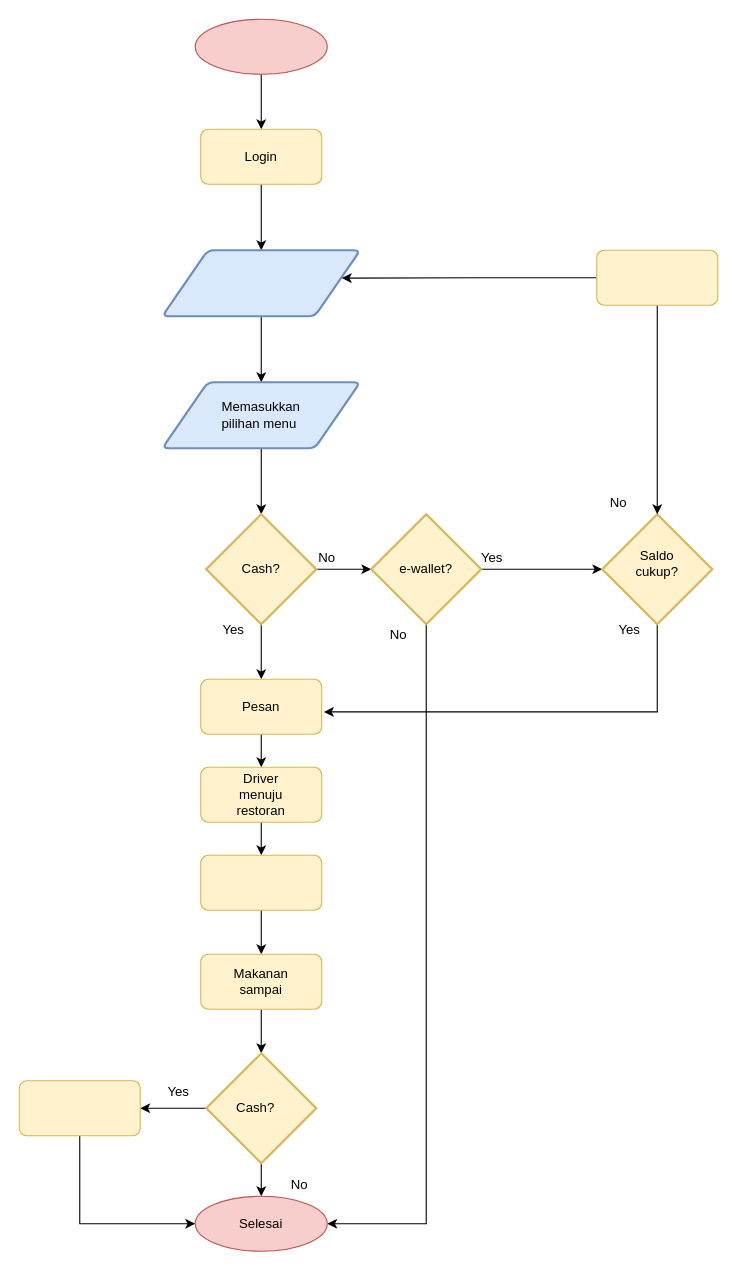
The diagram is 737 pixels wide and 1271 high, and some of its shapes have lost their labels. Here are the shapes that lost their labels. From the top down, the centre of each, then its label:
point 260,46: Mulai
point 261,283: Memasukkan atau memilih nama restoran
point 657,277: Top up
point 261,882: Driver menuju lokasi antar
point 79,1108: bayar
